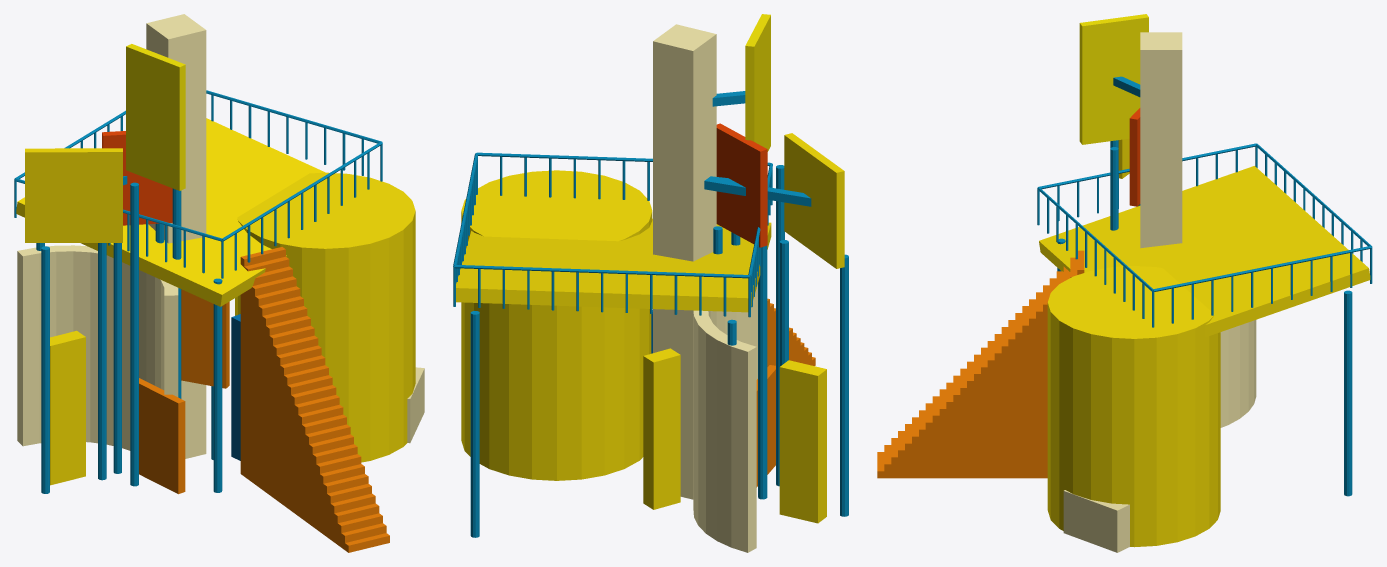
File: folie_tag_077.glb
3 renders of one model, left to right at view 1: azimuth 30°, elevation 25°; view 2: azimuth 150°, elevation 25°; view 3: azimuth 270°, elevation 25°, orthographic. The views are drawn at different scales.
Visible parts, largest first — view 1: folie_tag_077_01_drum, folie_tag_077_stairs, folie_tag_077_02_curve, folie_tag_077_line, folie_tag_077_00_plate, folie_tag_077_05_panel, folie_tag_077_core, folie_tag_077_03_panel, folie_tag_077_04_fin, folie_tag_077_11_panel, folie_tag_077_06_panel, folie_tag_077_08_panel (+2 smaller); view 2: folie_tag_077_01_drum, folie_tag_077_line, folie_tag_077_core, folie_tag_077_00_plate, folie_tag_077_02_curve, folie_tag_077_04_fin, folie_tag_077_05_panel, folie_tag_077_07_fin, folie_tag_077_08_panel, folie_tag_077_03_panel, folie_tag_077_11_panel, folie_tag_077_stairs; view 3: folie_tag_077_01_drum, folie_tag_077_00_plate, folie_tag_077_stairs, folie_tag_077_core, folie_tag_077_line, folie_tag_077_03_panel, folie_tag_077_02_curve, folie_tag_077_09_block, folie_tag_077_08_panel.
Part boxes in pixels (x1,y1,x2,y2): folie_tag_077_01_drum: (235,172,415,462); folie_tag_077_stairs: (240,247,389,552); folie_tag_077_02_curve: (17,245,178,450); folie_tag_077_line: (14,90,382,493); folie_tag_077_00_plate: (16,118,325,306); folie_tag_077_05_panel: (25,148,122,242); folie_tag_077_core: (146,14,206,458); folie_tag_077_03_panel: (126,44,185,190); folie_tag_077_04_fin: (50,330,85,485); folie_tag_077_11_panel: (139,378,185,494); folie_tag_077_06_panel: (181,289,229,388); folie_tag_077_08_panel: (102,131,172,225); folie_tag_077_01_drum: (461,170,652,480); folie_tag_077_line: (453,91,848,537); folie_tag_077_core: (653,24,716,499); folie_tag_077_00_plate: (456,218,771,312); folie_tag_077_02_curve: (693,284,757,552); folie_tag_077_04_fin: (779,360,826,523); folie_tag_077_05_panel: (784,133,844,268); folie_tag_077_07_fin: (643,348,680,509); folie_tag_077_08_panel: (716,123,767,247); folie_tag_077_03_panel: (745,14,770,151); folie_tag_077_11_panel: (756,365,775,487); folie_tag_077_stairs: (767,298,815,366); folie_tag_077_01_drum: (1047,266,1220,547); folie_tag_077_00_plate: (1039,166,1370,337); folie_tag_077_stairs: (877,250,1084,478); folie_tag_077_core: (1140,32,1182,248); folie_tag_077_line: (1037,76,1372,496); folie_tag_077_03_panel: (1079,14,1148,144); folie_tag_077_02_curve: (1220,320,1256,427); folie_tag_077_09_block: (1063,490,1129,552); folie_tag_077_08_panel: (1129,108,1140,206).
Bounding box in the file's own units: 10.89 × 11.71 × 12.93.
